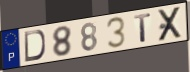3: (105, 15, 127, 49)
8: (51, 25, 73, 58), (81, 22, 99, 52)
D: (23, 29, 47, 64)
T: (133, 12, 152, 43)
X: (157, 5, 184, 43)
